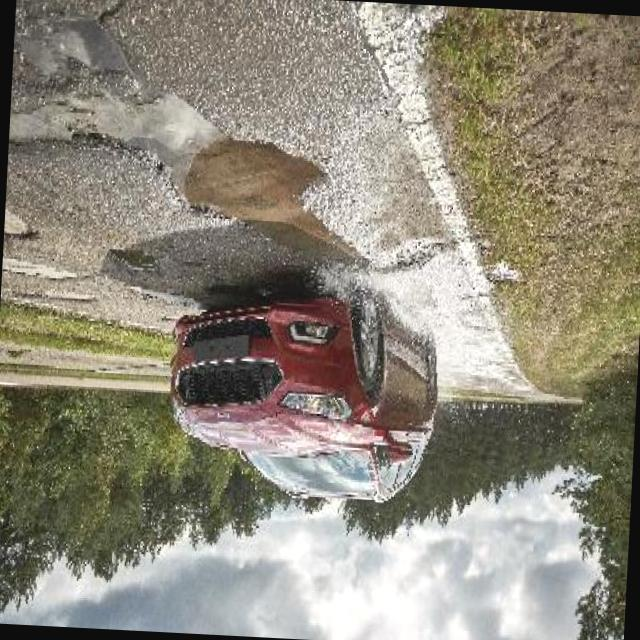pothole: (148, 132, 327, 228), (1, 256, 80, 286), (106, 249, 160, 277), (4, 210, 41, 246)
